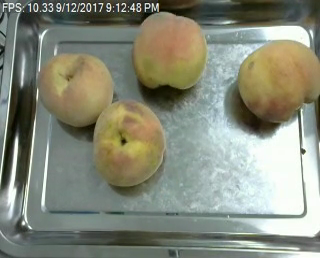Peach: (237, 39, 318, 122), (92, 98, 165, 186), (132, 10, 206, 90), (37, 50, 113, 126)
